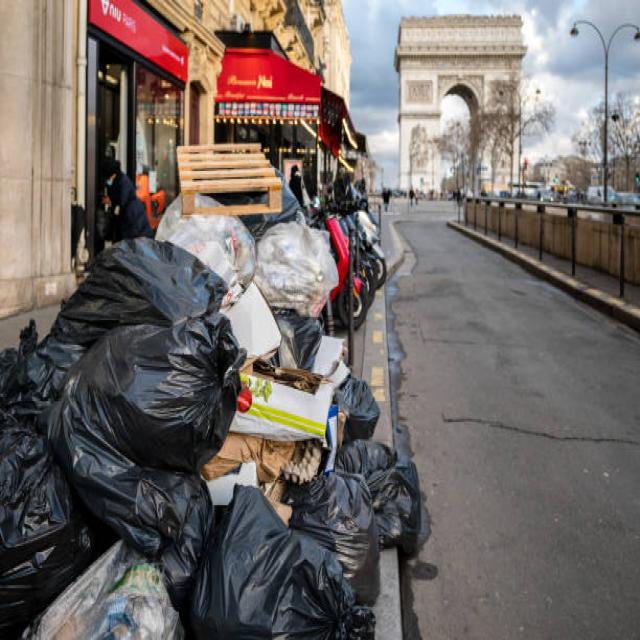cardboard: (220, 378, 332, 515)
trash: (1, 287, 208, 587), (258, 229, 350, 362)
